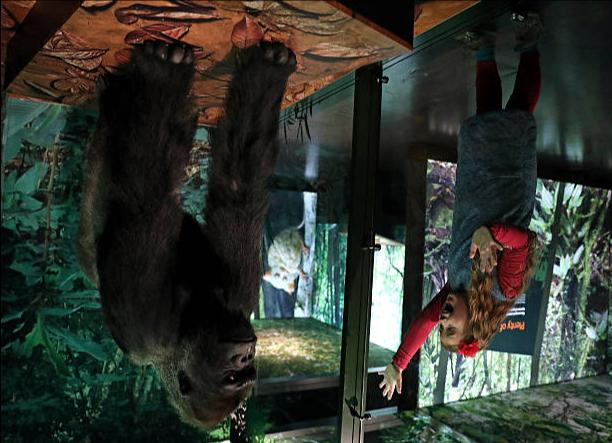gorille_Autres: (83, 39, 294, 426)
